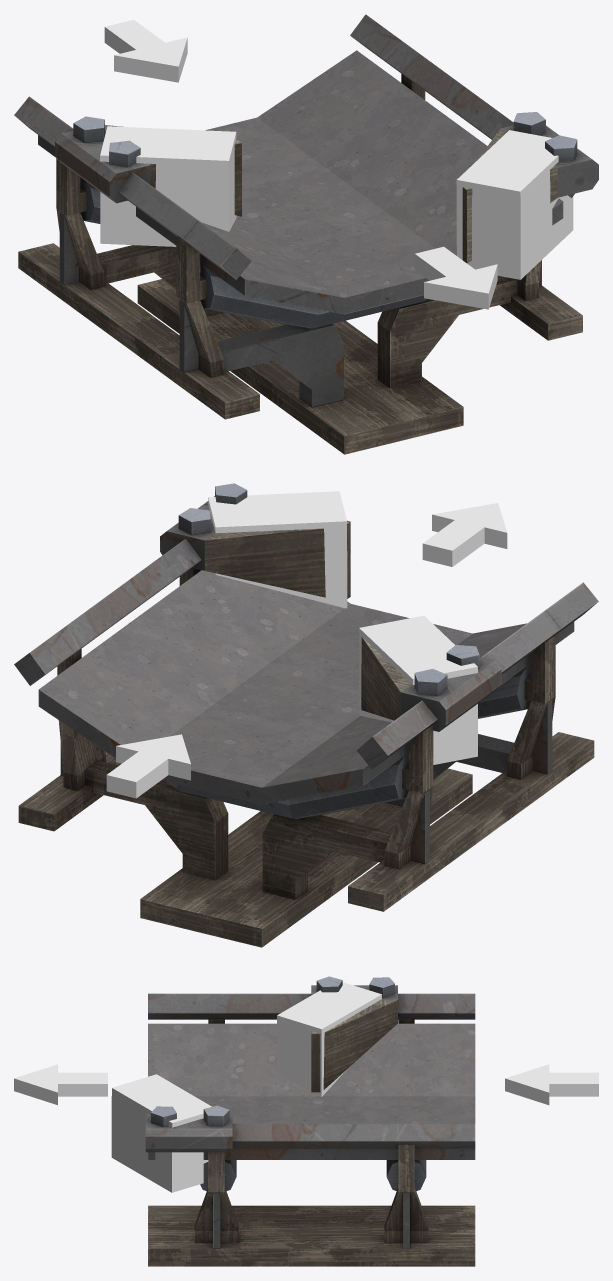
File: Ingot_StraighteningConveyor.glb
The picture shows the model from 3 angles, top to bottom: view 1: azimuth 30°, elevation 25°; view 2: azimuth 150°, elevation 25°; view 3: azimuth 270°, elevation 25°; orthographic projection. The views are drawn at different scales.
Visible parts, largest first — view 1: Ingot_StraighteningConveyor, wedge (1), wedge, ghostarrow (1), ghostarrow; view 2: Ingot_StraighteningConveyor, wedge (1), wedge, ghostarrow, ghostarrow (1); view 3: Ingot_StraighteningConveyor, wedge (1), wedge, ghostarrow (1), ghostarrow.
Boxes of the visible parts, x1,y1,x2,y2 form: Ingot_StraighteningConveyor: (14, 14, 598, 454); wedge (1): (456, 130, 573, 279); wedge: (100, 126, 236, 246); ghostarrow (1): (104, 19, 187, 82); ghostarrow: (414, 246, 497, 309); Ingot_StraighteningConveyor: (14, 483, 598, 947); wedge (1): (208, 491, 347, 608); wedge: (359, 615, 477, 764); ghostarrow: (422, 503, 507, 566); ghostarrow (1): (106, 734, 190, 798); Ingot_StraighteningConveyor: (145, 976, 475, 1266); wedge (1): (111, 1074, 211, 1192); wedge: (276, 982, 381, 1096); ghostarrow (1): (505, 1064, 598, 1105); ghostarrow: (14, 1064, 107, 1105).
Size of the model in its own units: 1.07 by 0.6649 by 1.79.
Materials: 4 (2 with a texture image).
